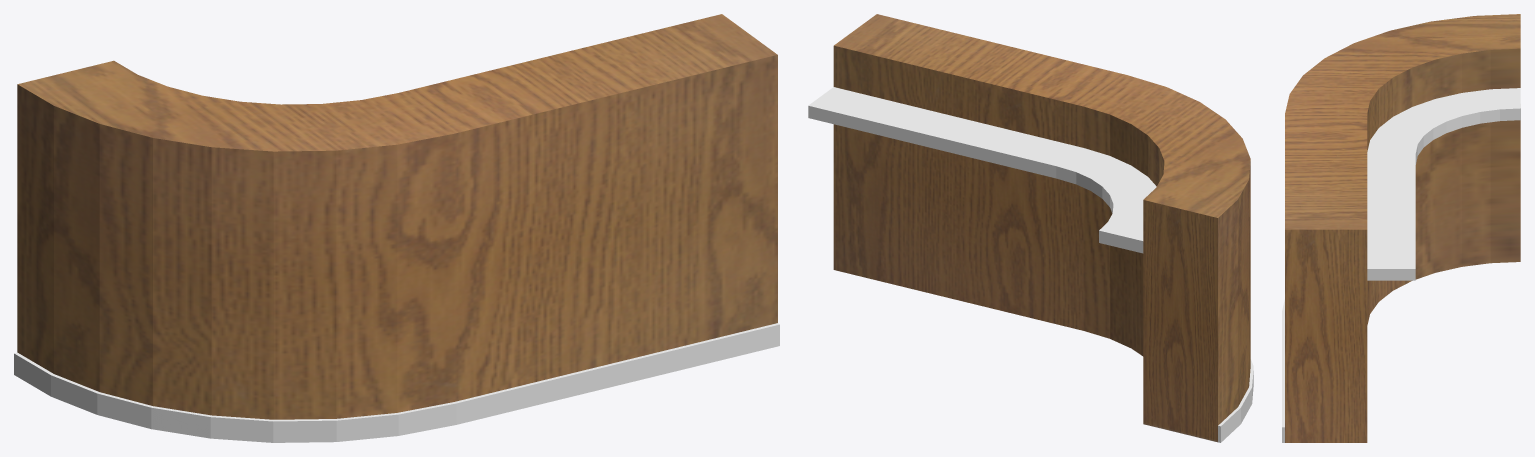
The model's file is reception desk.fbx.
3 views of the same model, side by side, from view 1: azimuth 30°, elevation 25°; view 2: azimuth 150°, elevation 25°; view 3: azimuth 270°, elevation 25° (orthographic). The views are drawn at different scales.
Parts seen in each view (by area): view 1: reception desk; view 2: reception desk; view 3: reception desk.
Boxes of the visible parts, x1,y1,x2,y2 form: reception desk: (14, 14, 779, 442); reception desk: (808, 14, 1253, 442); reception desk: (1282, 14, 1520, 442).
Size of the model in its own units: 1052 by 482 by 489.
